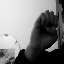e: (29, 9, 59, 50)
